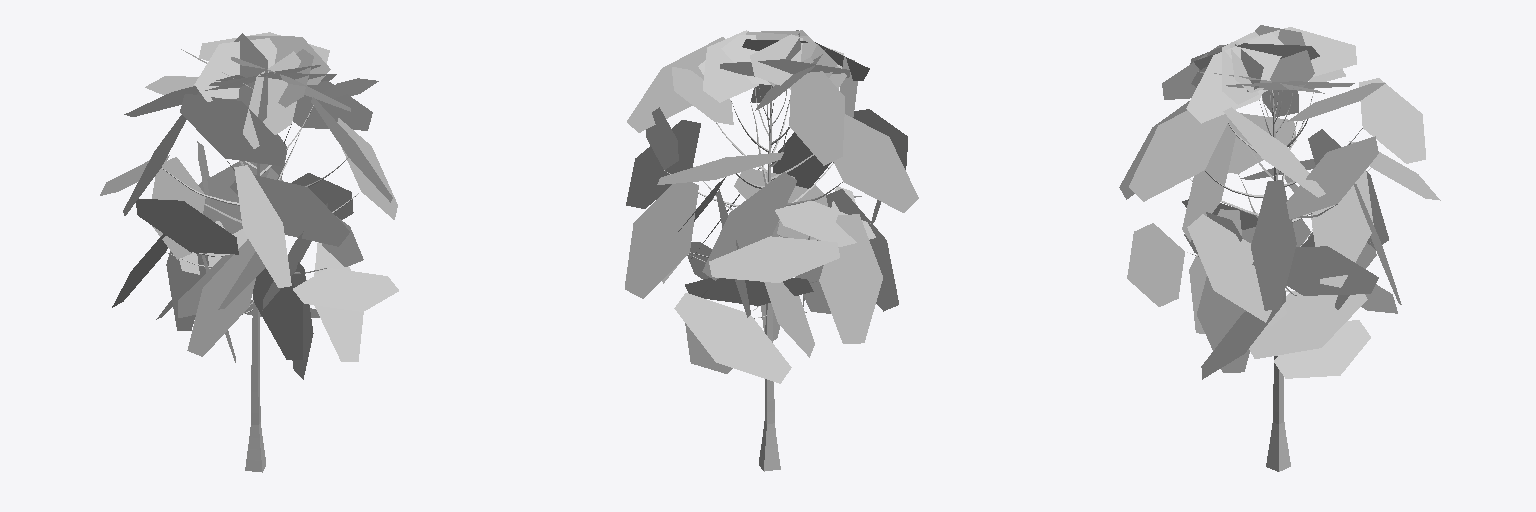
File: tree2.9.obj
3 views of the same model, side by side, from view 1: azimuth 30°, elevation 25°; view 2: azimuth 150°, elevation 25°; view 3: azimuth 270°, elevation 25° (orthographic).
Visible parts, largest first — view 1: leaves, tree_tree.002; view 2: leaves, tree_tree.002; view 3: leaves, tree_tree.002.
Boxes of the visible parts, x1=… form: leaves: x1=100, y1=32, x2=398, y2=379; tree_tree.002: x1=161, y1=105, x2=358, y2=472; leaves: x1=625, y1=30, x2=918, y2=383; tree_tree.002: x1=664, y1=86, x2=870, y2=471; leaves: x1=1119, y1=25, x2=1440, y2=379; tree_tree.002: x1=1187, y1=88, x2=1371, y2=471.
Size of the model in its own units: 11.41 by 16.19 by 11.17.